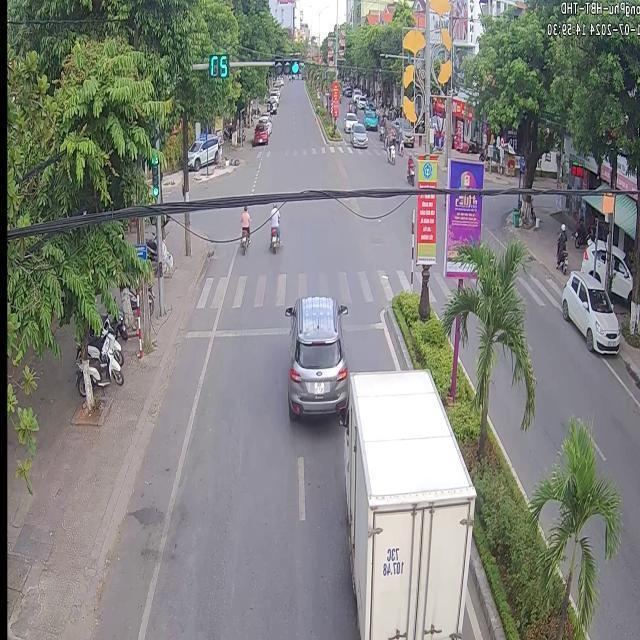car: (343, 369, 474, 638), (284, 294, 347, 418), (559, 269, 618, 352)
green_light: (273, 56, 300, 78), (207, 51, 229, 77), (150, 149, 158, 200)
motobike: (268, 202, 279, 251), (239, 205, 249, 254)
stop_line: (213, 325, 288, 336), (342, 320, 380, 329), (186, 327, 210, 336)
